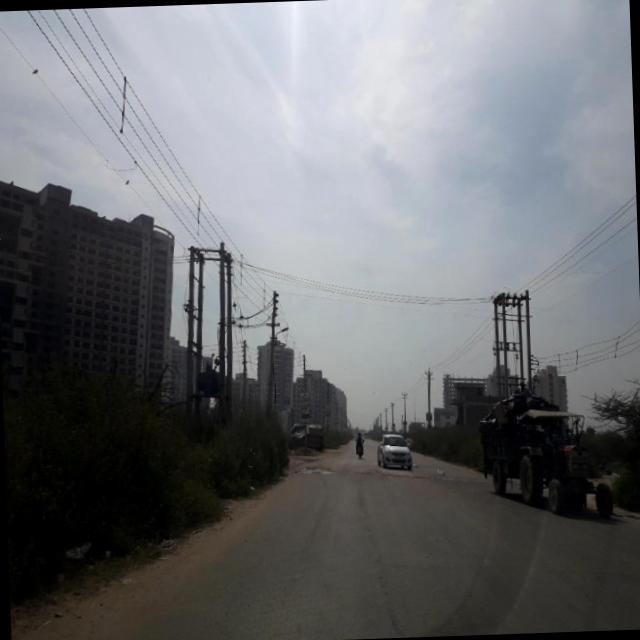pothole: (354, 480, 401, 633)
